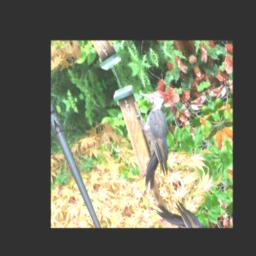Woodpecker: (112, 81, 198, 194)
